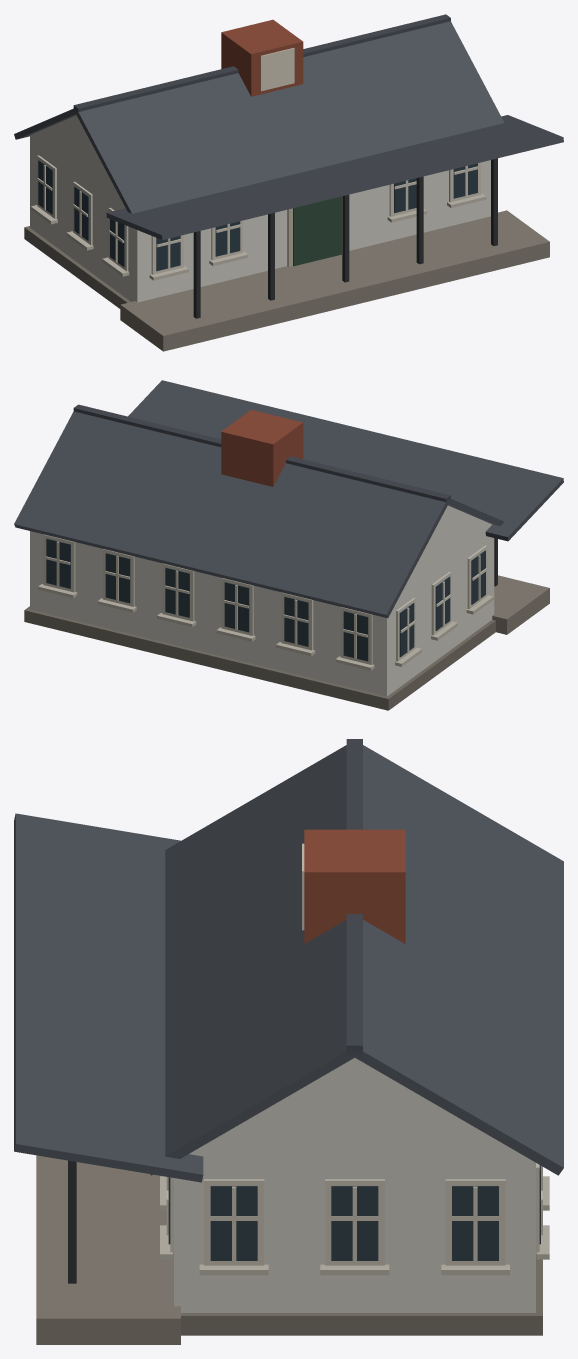
File: procedural_railstation@6.glb
The picture shows the model from 3 angles, top to bottom: view 1: azimuth 30°, elevation 25°; view 2: azimuth 150°, elevation 25°; view 3: azimuth 270°, elevation 25°; orthographic projection. The views are drawn at different scales.
Parts seen in each view (by area): view 1: part_0; view 2: part_0; view 3: part_0.
Part boxes in pixels (x1,y1,x2,y2): part_0: (14,14,563,351); part_0: (14,380,563,710); part_0: (14,739,563,1344).
Bounding box in the file's own units: 10.8 × 5.1 × 7.6.
